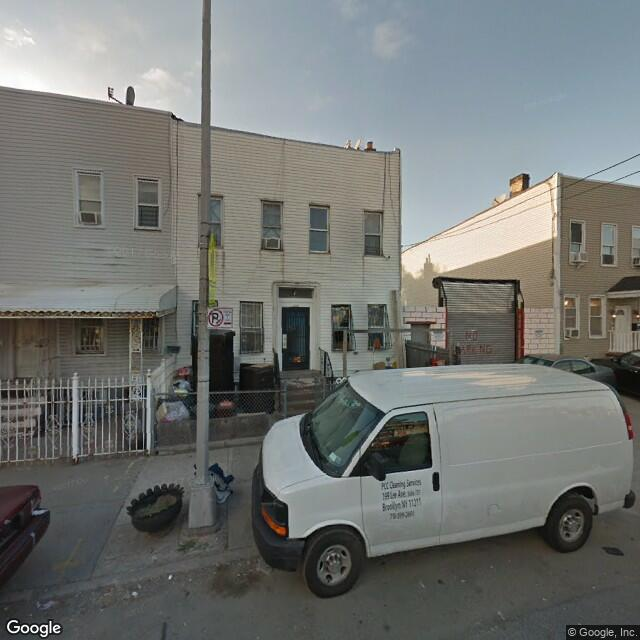litter: (103, 471, 191, 534), (125, 588, 157, 600), (161, 572, 192, 582)
